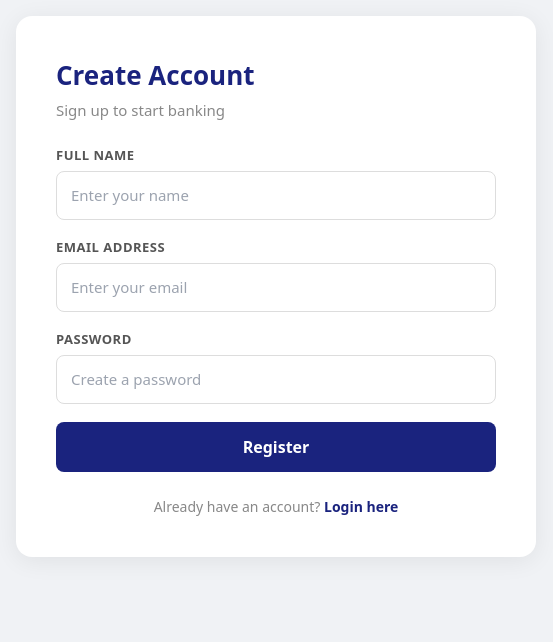
it: RegisterPage › submits form with correct data - success
Type "Mary Anger" into the field with placeholder "Enter your name" at coordinates (276, 195), box top-left (56, 171), bottom-right (496, 220)
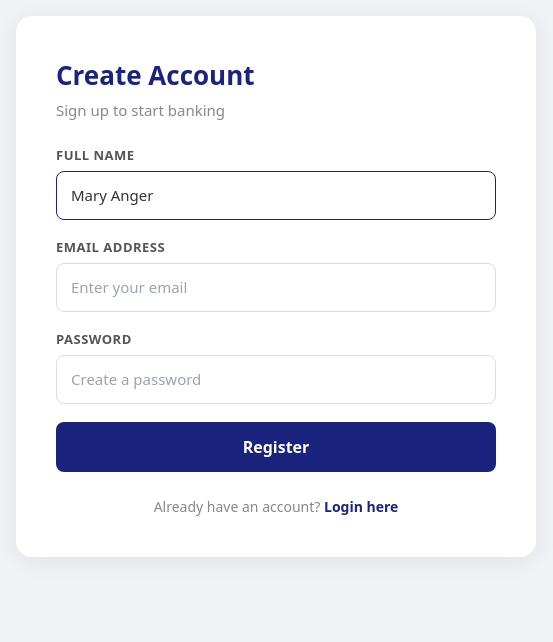
Type "mary@example.com" into the field with placeholder "Enter your email" at coordinates (276, 287), box top-left (56, 263), bottom-right (496, 312)
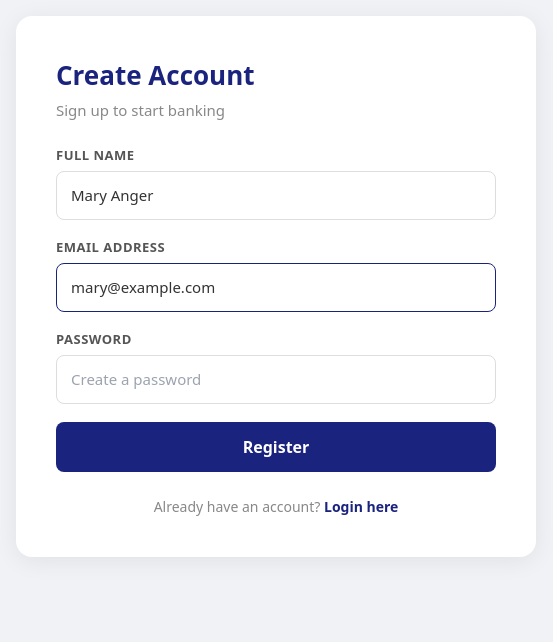
Type "123456" into the password field with placeholder "Create a password" at coordinates (276, 379), box top-left (56, 355), bottom-right (496, 404)
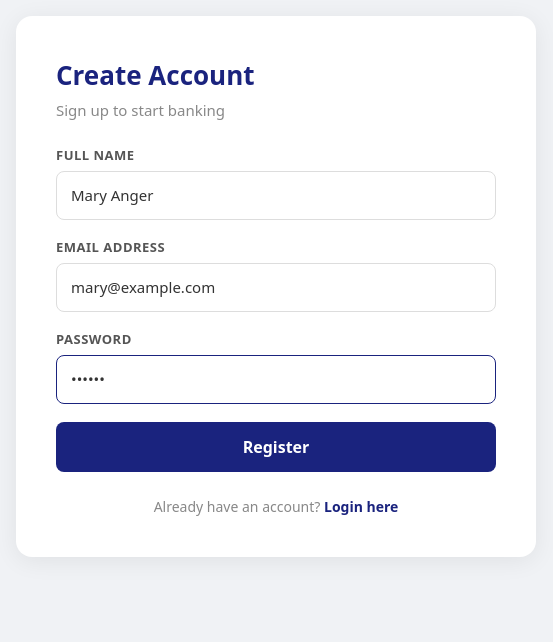
Click the button "Register" at coordinates (276, 446), box top-left (56, 422), bottom-right (496, 472)
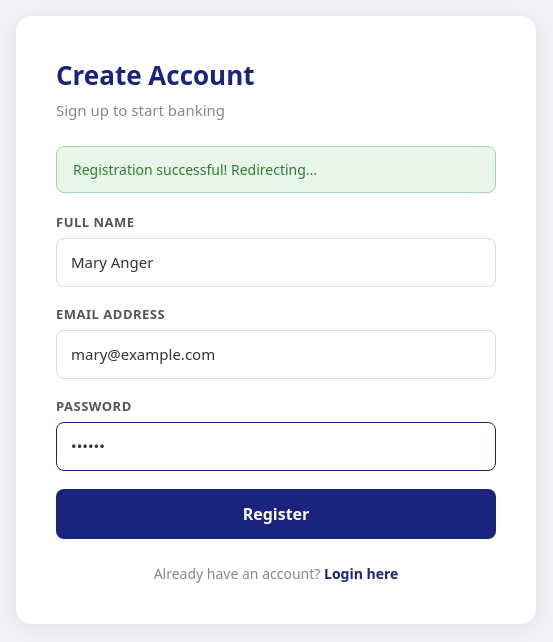
Result: the text "Registration successful! Redirecting..." is shown at top-left (56, 146), bottom-right (496, 192)
